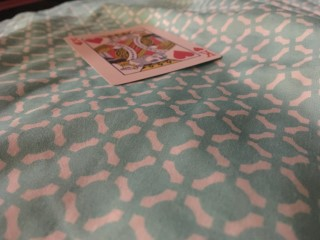KingOfHearts: (63, 24, 223, 85)
